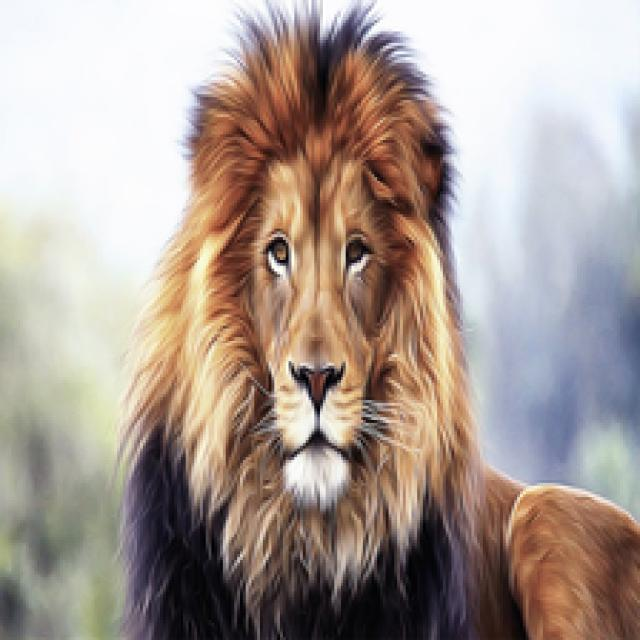lion: (94, 9, 563, 632)
